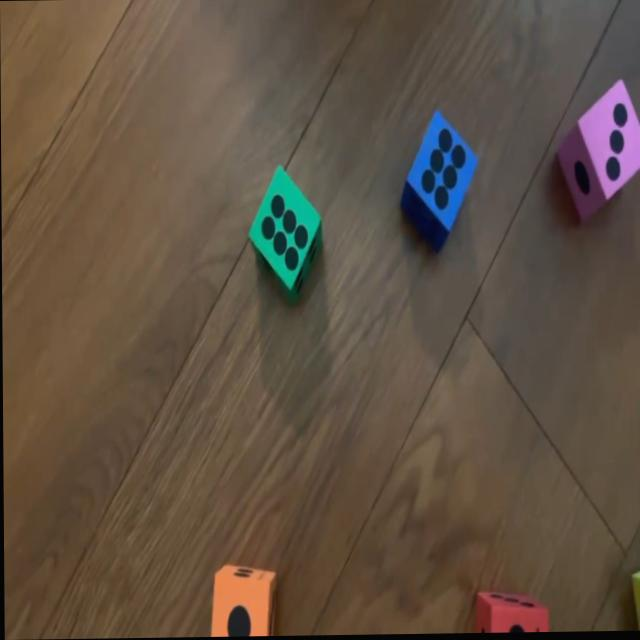cube: (400, 110, 478, 252), (248, 162, 322, 304), (471, 590, 551, 635)
